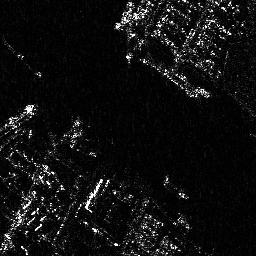ship: (1, 101, 40, 137), (164, 174, 190, 203)
